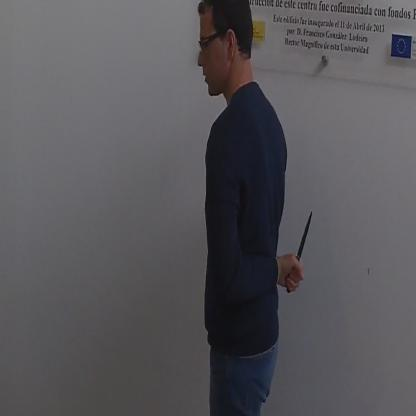knife: (284, 202, 316, 296)
